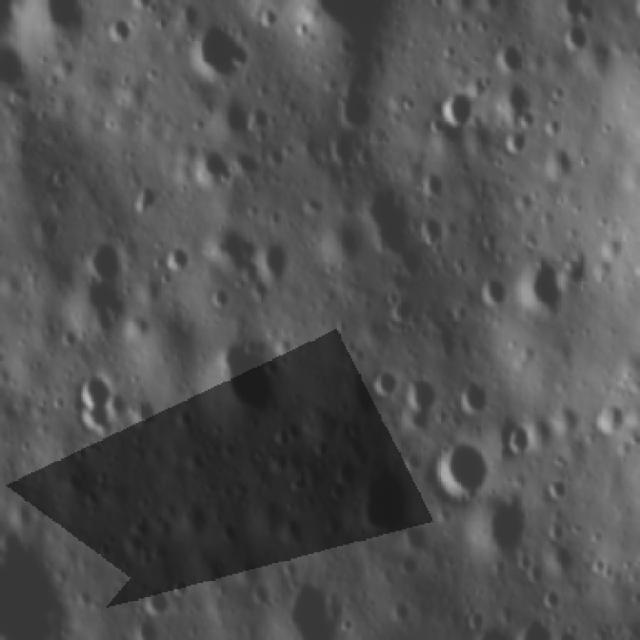crater: (212, 321, 279, 424), (0, 543, 58, 640), (354, 464, 409, 542), (354, 192, 415, 258), (180, 21, 249, 76), (512, 254, 572, 314), (288, 575, 343, 640), (436, 438, 490, 504), (463, 502, 523, 558), (36, 0, 96, 52), (70, 368, 108, 434), (79, 235, 130, 279), (403, 382, 443, 431), (250, 236, 292, 278), (0, 45, 32, 99), (332, 85, 378, 122), (191, 146, 229, 189), (542, 398, 576, 444), (439, 88, 475, 130), (472, 272, 508, 314), (99, 7, 135, 47), (543, 141, 577, 181), (502, 425, 535, 466), (596, 398, 624, 442), (330, 133, 364, 169), (155, 247, 193, 279), (465, 617, 517, 640), (500, 127, 538, 158), (381, 295, 416, 328), (371, 368, 402, 404), (505, 82, 532, 123), (129, 182, 162, 213), (550, 0, 596, 22), (419, 168, 447, 203), (460, 382, 485, 420), (539, 584, 567, 614), (142, 586, 172, 612), (133, 396, 159, 426), (132, 618, 165, 640), (525, 615, 553, 640), (546, 477, 572, 503), (564, 26, 590, 51), (421, 219, 445, 246), (551, 624, 590, 640), (106, 387, 128, 415), (166, 578, 191, 596), (400, 553, 414, 579), (402, 632, 433, 640), (635, 531, 640, 574), (632, 0, 639, 18)
